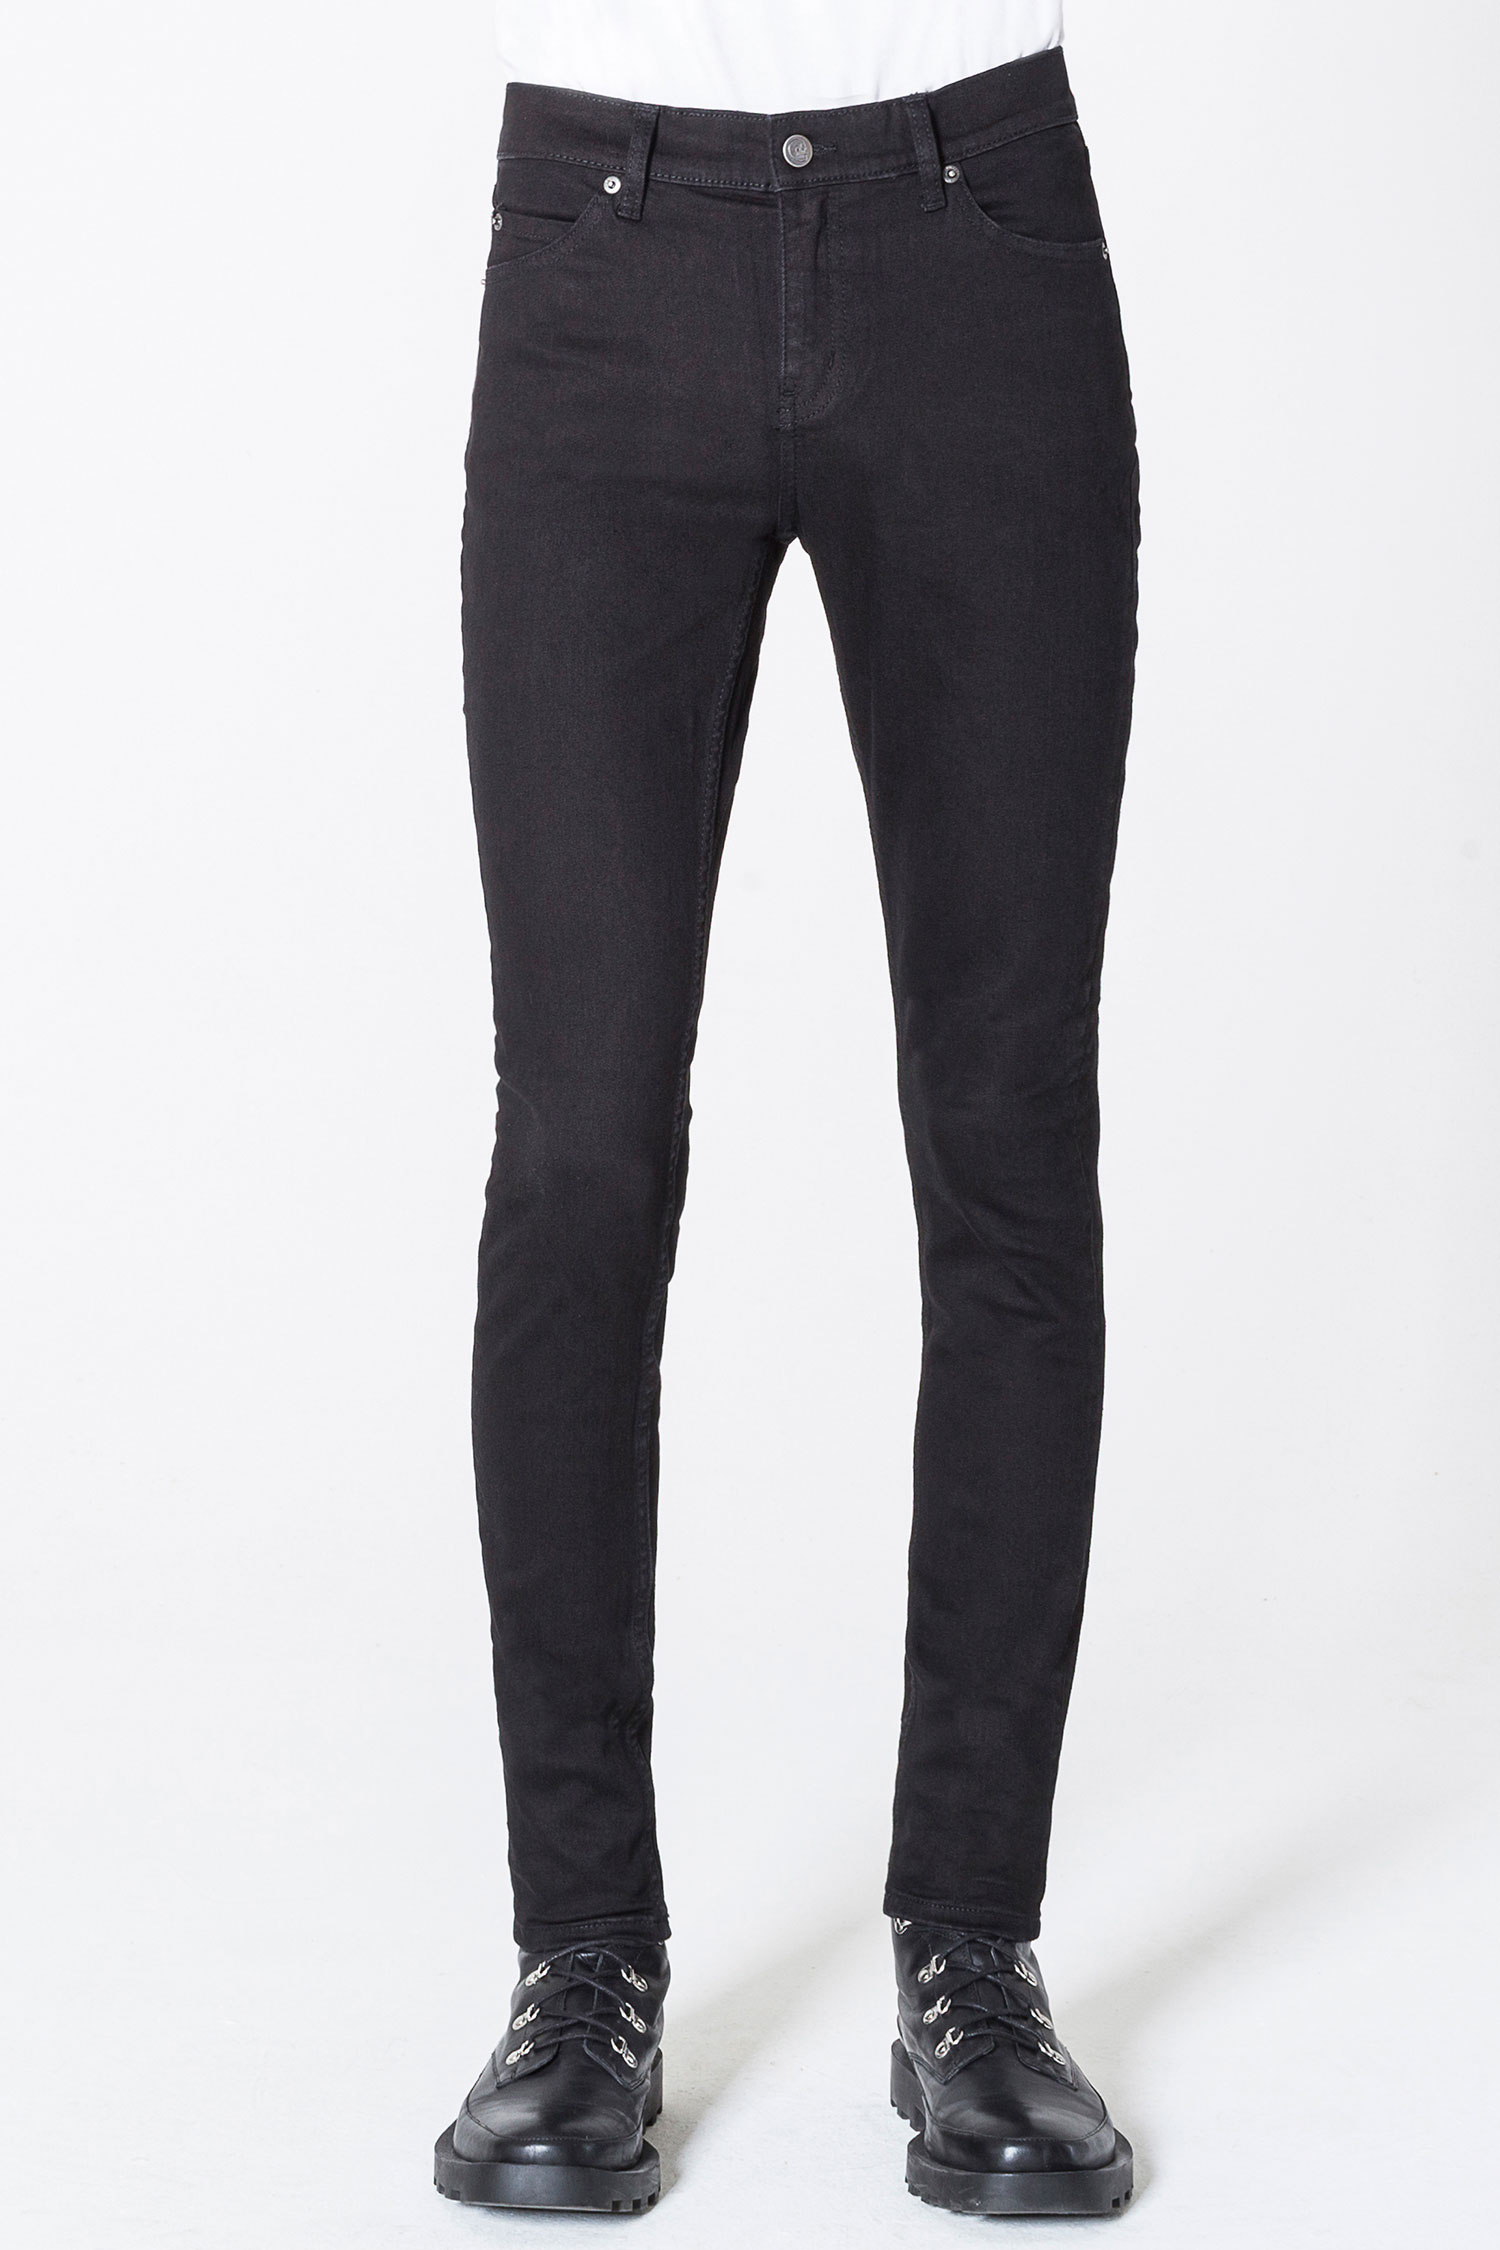Jeans: (377, 22, 1170, 1977)
